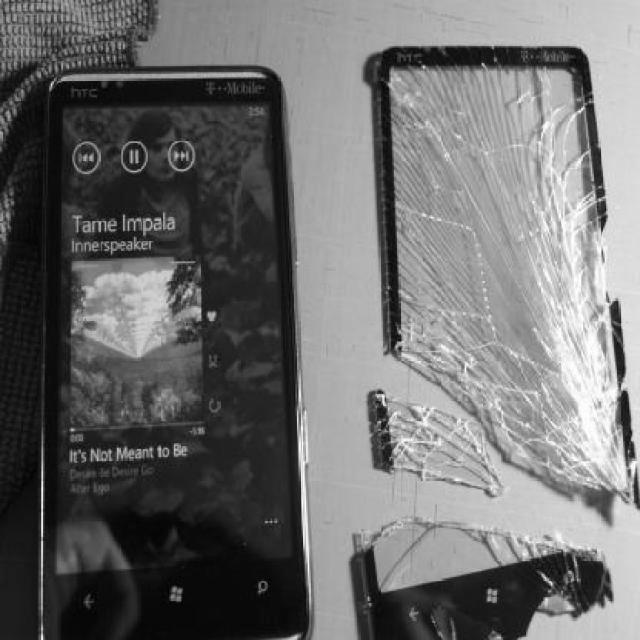fake: (29, 46, 294, 640)
